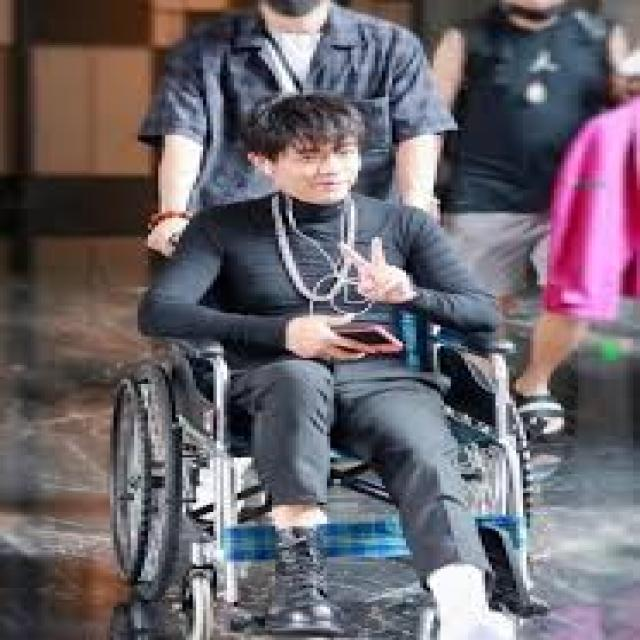wheelchairs: (96, 289, 578, 635)
